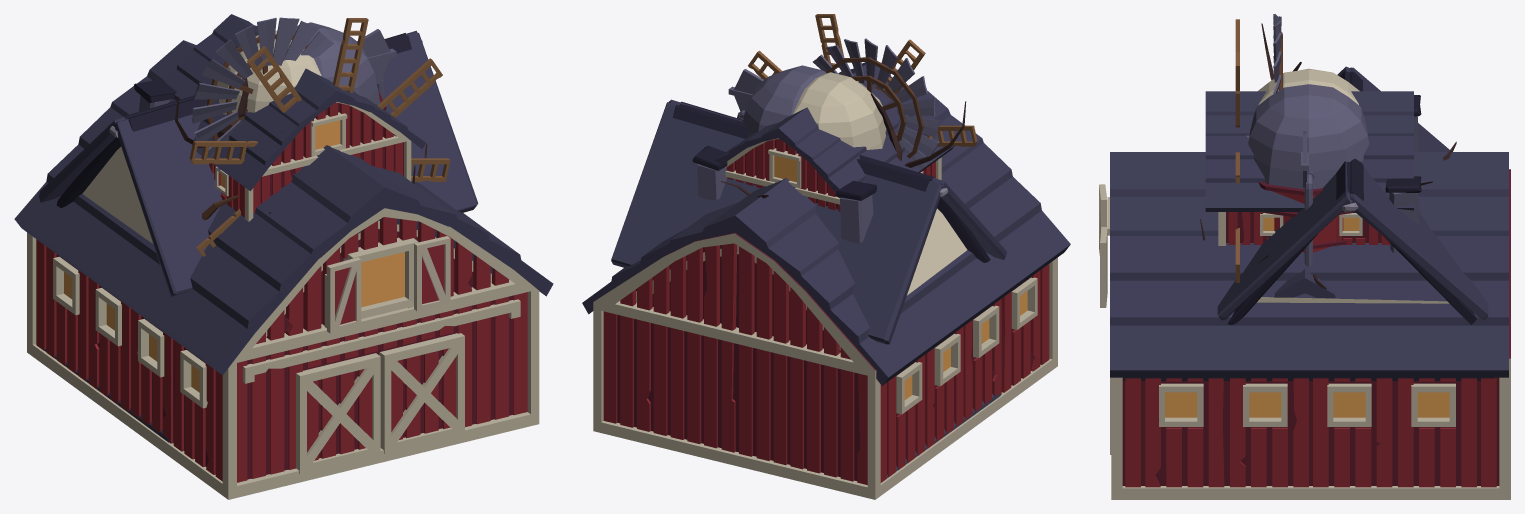
The model's file is world.glb.
The picture shows the model from 3 angles, left to right: view 1: azimuth 30°, elevation 25°; view 2: azimuth 150°, elevation 25°; view 3: azimuth 270°, elevation 25°; orthographic projection. The views are drawn at different scales.
Visible parts, largest first — view 1: barn, farmhouse_a, barn_big, windmill, windmill_tower, farmhouse_b, silo_house, silo, tree_dead_3; view 2: barn, farmhouse_a, barn_big, windmill, farmhouse_b, silo, silo_house, windmill_tower, tree_dead_3; view 3: barn, barn_big, farmhouse_a, silo_house, farmhouse_b, silo, windmill, barn_open, windmill_tower, tree_dead_3.
Part boxes in pixels (left/top/right/bottom): barn: left=14, top=40, right=553, bottom=499; farmhouse_a: left=39, top=30, right=478, bottom=442; barn_big: left=164, top=14, right=492, bottom=354; windmill: left=192, top=17, right=396, bottom=170; windmill_tower: left=189, top=18, right=450, bottom=256; farmhouse_b: left=56, top=33, right=411, bottom=207; silo_house: left=293, top=22, right=386, bottom=110; silo: left=217, top=30, right=321, bottom=114; tree_dead_3: left=175, top=77, right=427, bottom=213; barn: left=582, top=91, right=1070, bottom=499; farmhouse_a: left=611, top=99, right=1007, bottom=477; barn_big: left=636, top=62, right=953, bottom=350; windmill: left=728, top=38, right=940, bottom=170; farmhouse_b: left=672, top=101, right=990, bottom=262; silo: left=793, top=72, right=886, bottom=149; silo_house: left=737, top=65, right=826, bottom=135; windmill_tower: left=748, top=14, right=977, bottom=146; tree_dead_3: left=721, top=93, right=966, bottom=198; barn: left=1099, top=152, right=1510, bottom=499; barn_big: left=1123, top=91, right=1494, bottom=380; farmhouse_a: left=1217, top=66, right=1488, bottom=320; silo_house: left=1246, top=84, right=1369, bottom=266; farmhouse_b: left=1228, top=71, right=1476, bottom=324; silo: left=1258, top=68, right=1359, bottom=104; windmill: left=1273, top=14, right=1308, bottom=187; barn_open: left=1274, top=269, right=1335, bottom=297; windmill_tower: left=1235, top=19, right=1239, bottom=282; tree_dead_3: left=1200, top=23, right=1456, bottom=289.
Size of the model in its own units: 9.26 by 11.15 by 9.85.
